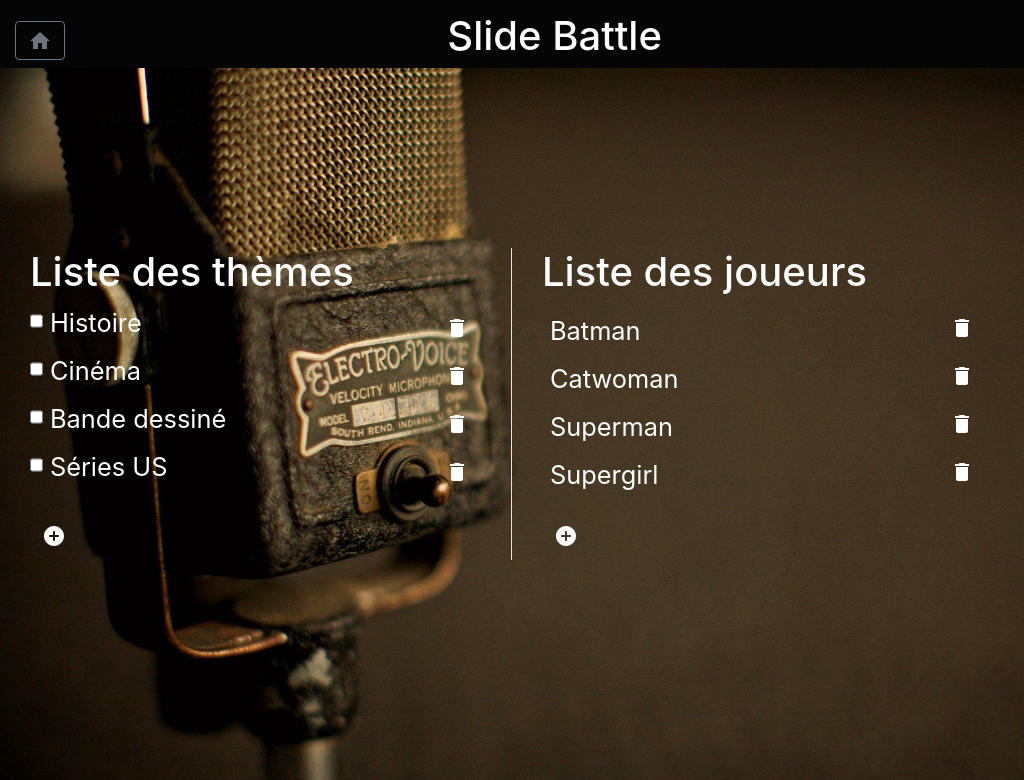
Test case: <ListItems /> › should <AddButton /> have correct structure
The width and height of the screenshot is (1024, 780).
Step 1. Click the button with id "btnAddTopics" → click(54, 536), box [30,512,78,560]
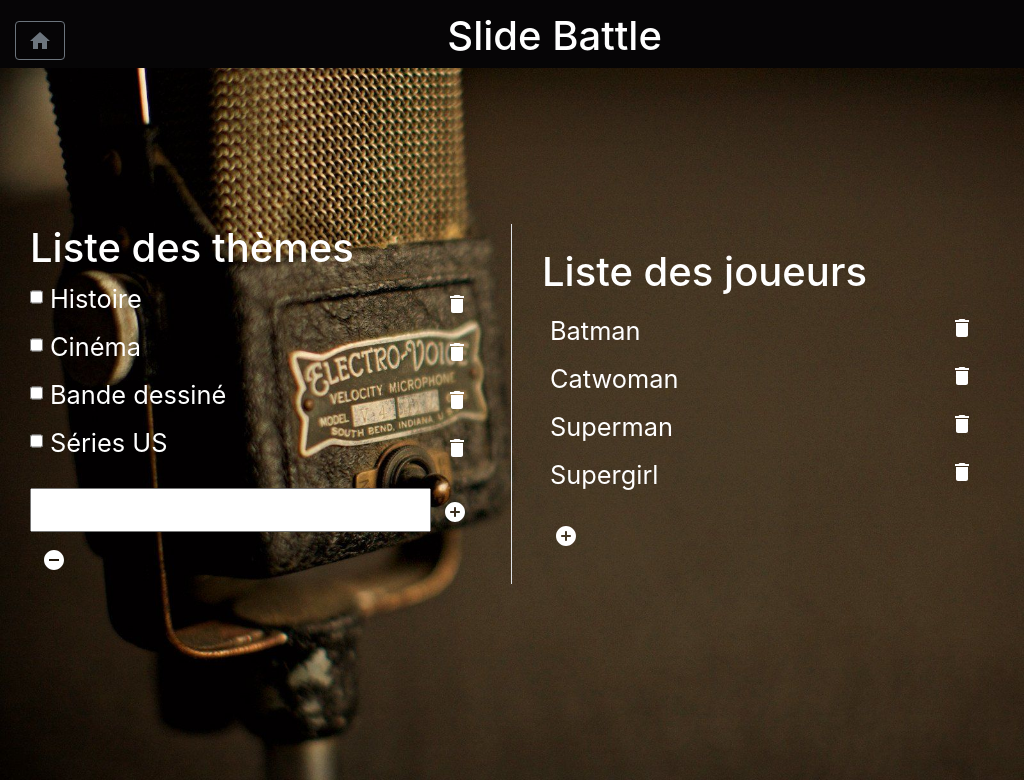
Check: the number of buttons with id "btnAddTopics" is 1, box [431,488,479,536]
Check: the number of fields named "newItem" is 1, box [30,488,431,532]
Check: the number of buttons with id "btnDelTopics" is 1, box [30,536,78,584]
